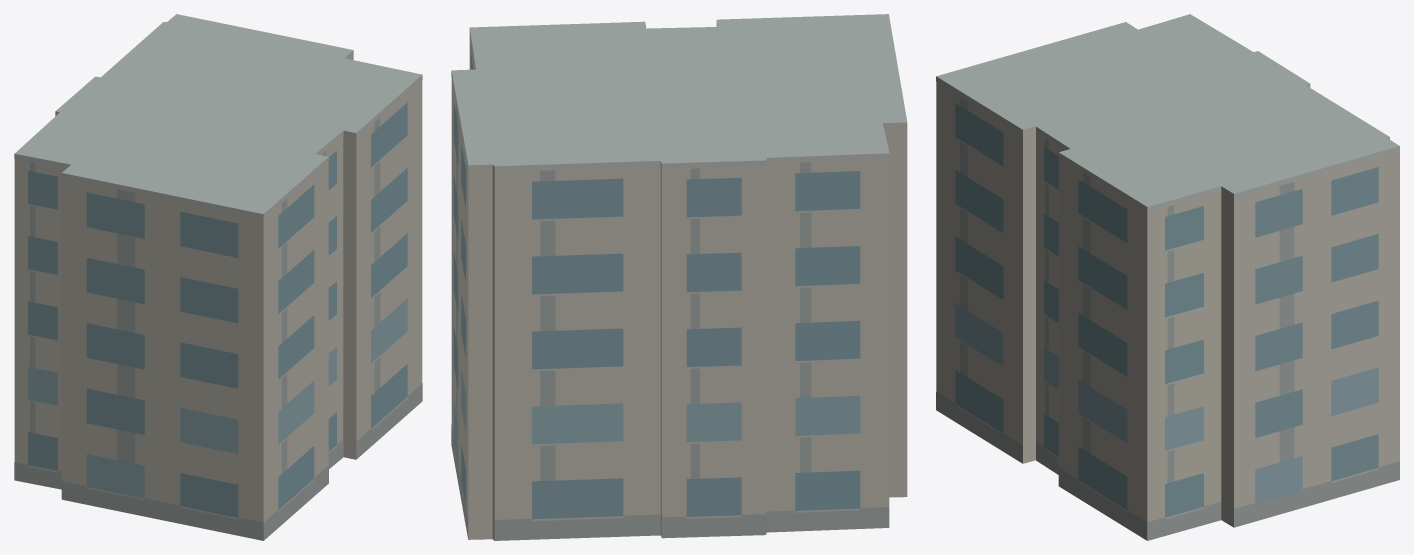
The model's file is survey-upis-32944926.glb.
3 views of the same model, side by side, from view 1: azimuth 30°, elevation 25°; view 2: azimuth 150°, elevation 25°; view 3: azimuth 270°, elevation 25° (orthographic). The views are drawn at different scales.
Visible parts, largest first — view 1: survey-upis-32944926.tmp; view 2: survey-upis-32944926.tmp; view 3: survey-upis-32944926.tmp.
Boxes of the visible parts, x1=… form: survey-upis-32944926.tmp: x1=14, y1=14, x2=422, y2=540; survey-upis-32944926.tmp: x1=451, y1=14, x2=907, y2=540; survey-upis-32944926.tmp: x1=936, y1=14, x2=1399, y2=540.
Bounding box in the file's own units: 18.92 × 15.25 × 19.2.
